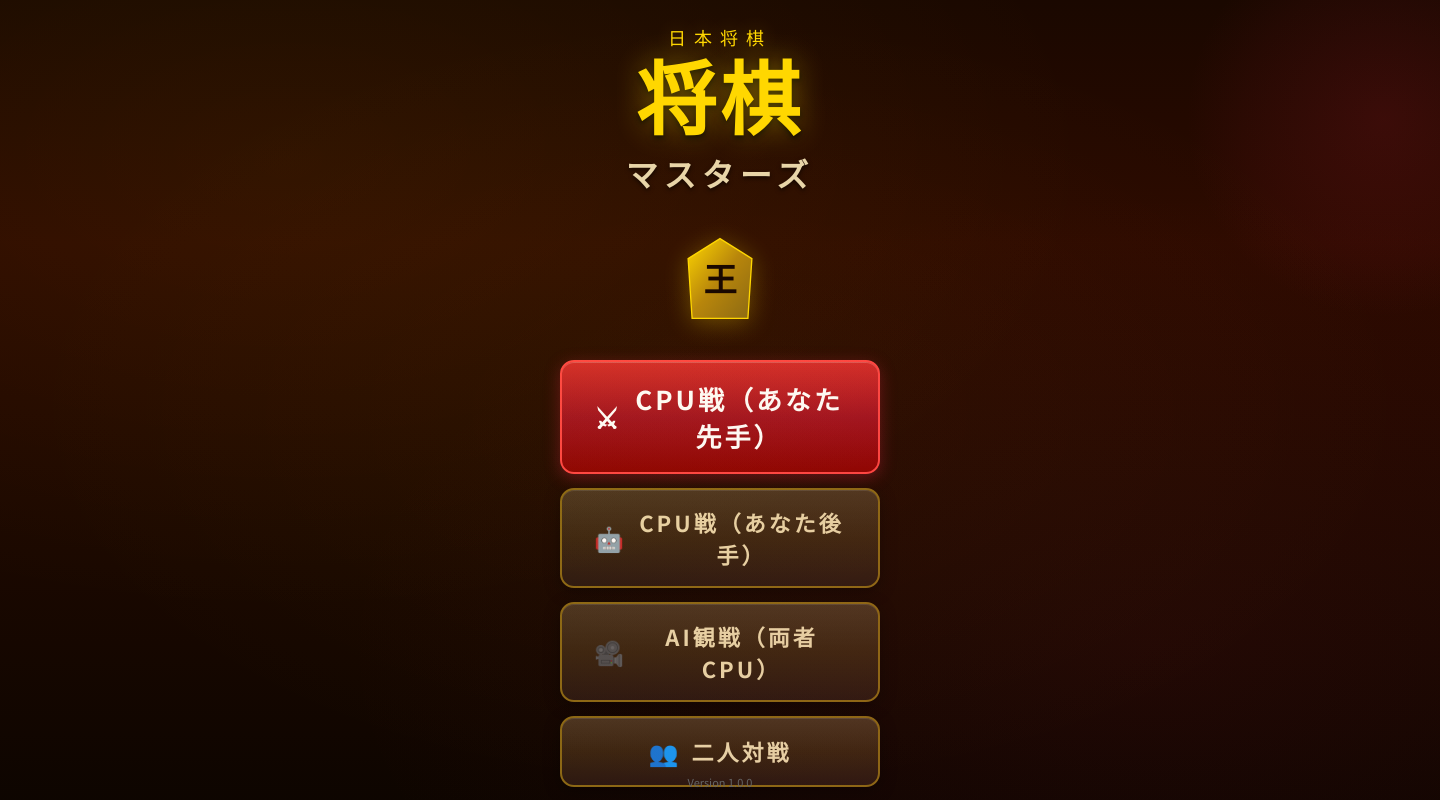
Scenario: App › navigates to game screen on CPU button click
What coordinates should you click on to do the following:
click the button "⚔ CPU戦（あなた先手）"
I would click on:
 (720, 416)
Its box is [560,360,880,474].
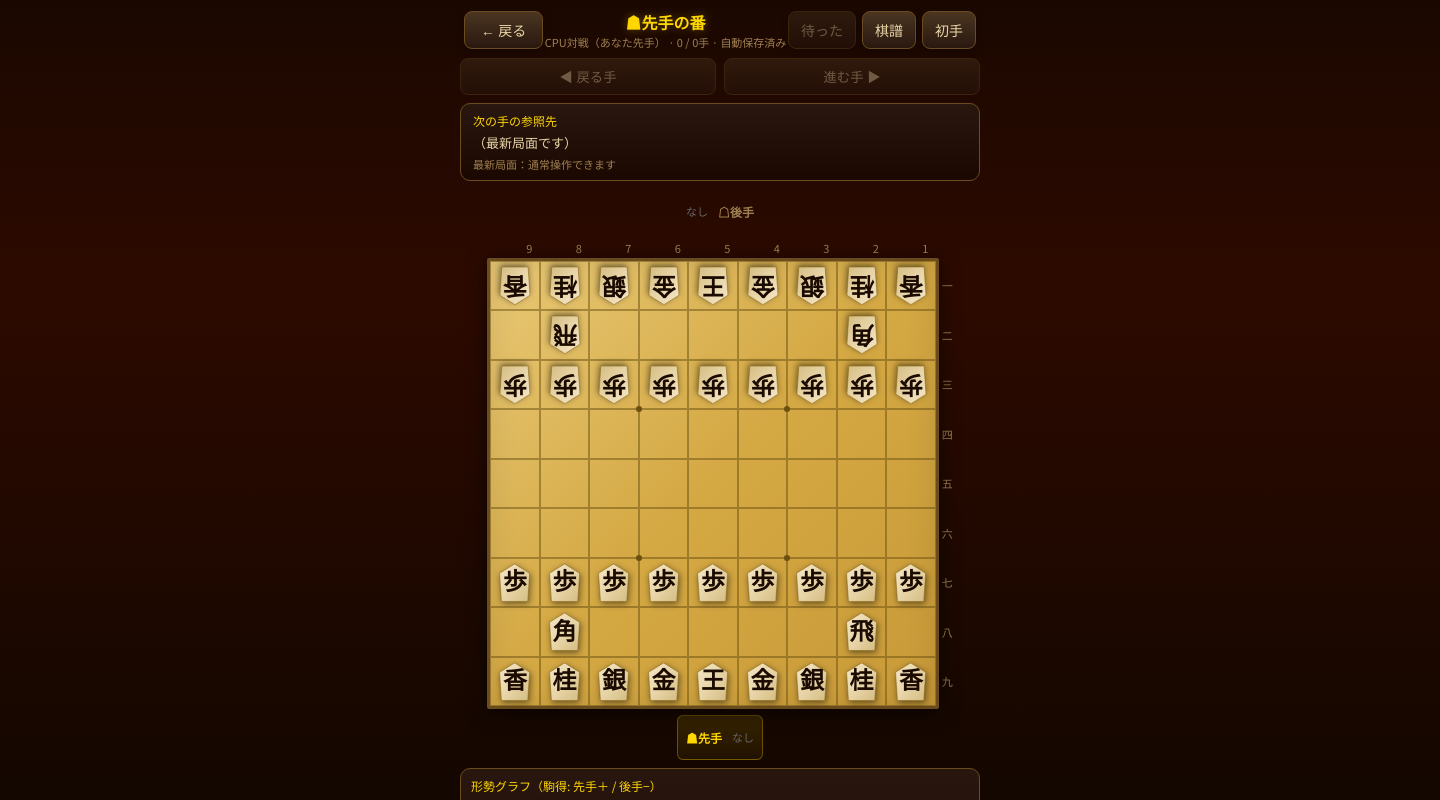
Expected: the text "☗先手の番" is shown, [626,10,706,34]
Expected: the text "CPU対戦（あなた先手） · 0 / 0手 · 自動保存済み" is shown, [543,34,788,50]
